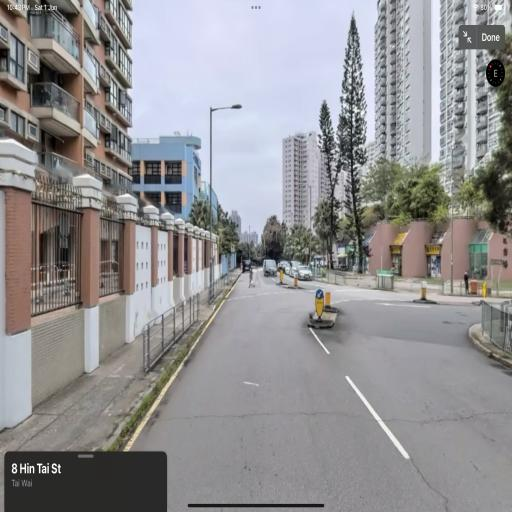Roads: (124, 249, 507, 501)
Trees: (312, 7, 408, 297)
